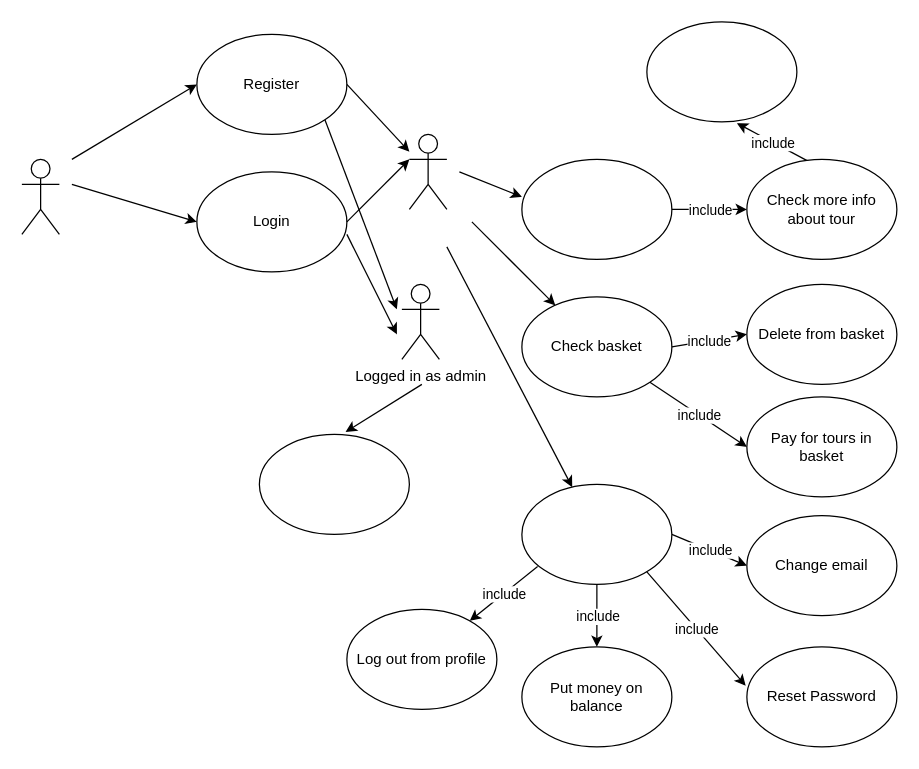
This 919x769 diagram has some shape labels left out. The centre of each missing label's shape, as x and y in pixels:
Add tour to basket: the point at 721,71
Check profile: the point at 596,533
Check tours: the point at 596,208
Edit tours: the point at 333,483
Registered user: the point at 427,171
User: the point at 40,196
